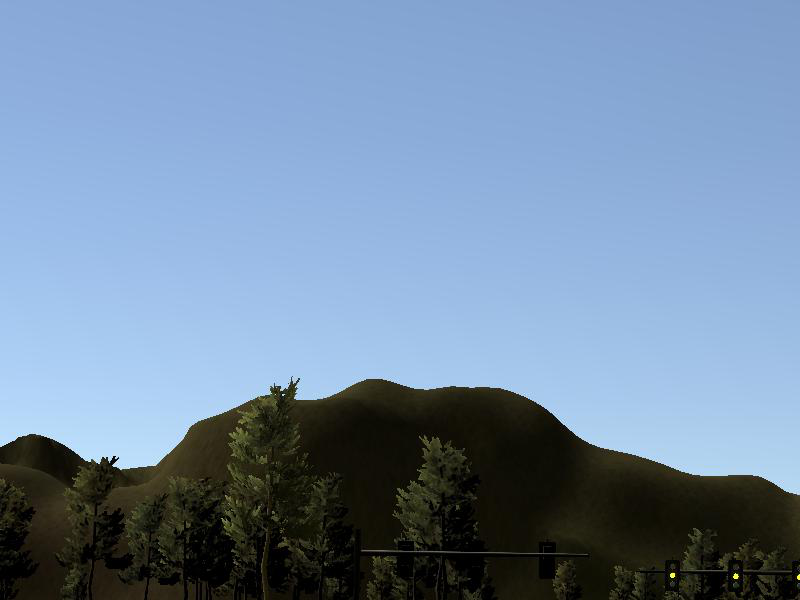yellow: (665, 561, 680, 592), (730, 559, 744, 592), (791, 561, 800, 591)
